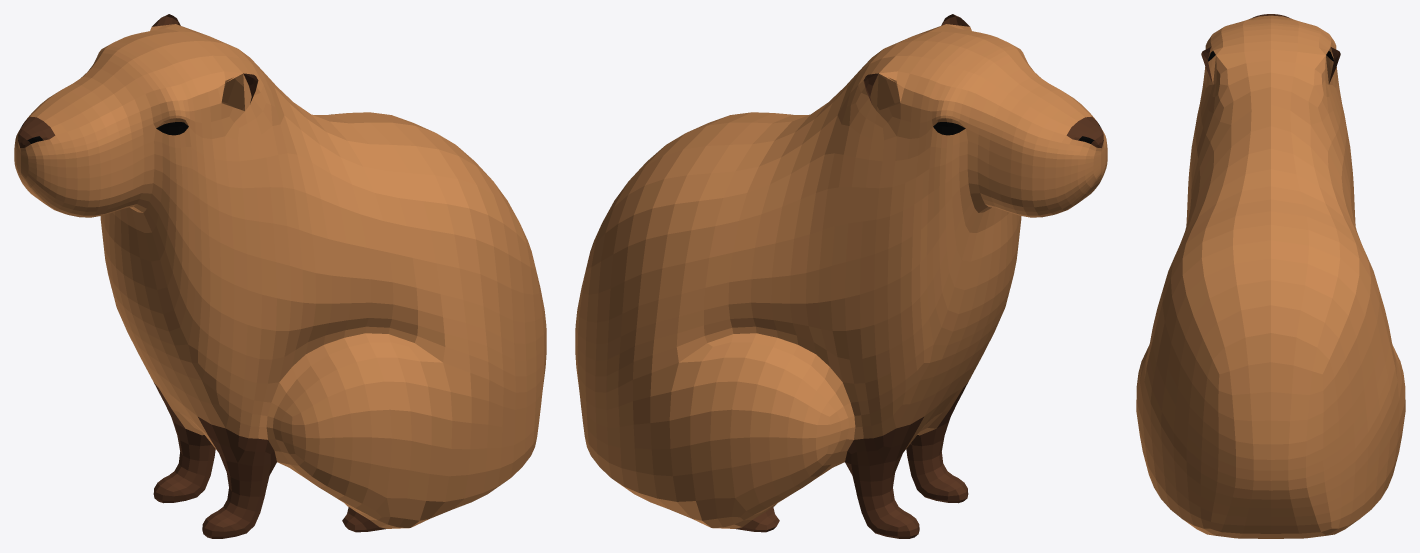
The model's file is Kapibara_fbx.fbx.
The picture shows the model from 3 angles, left to right: view 1: azimuth 30°, elevation 25°; view 2: azimuth 150°, elevation 25°; view 3: azimuth 270°, elevation 25°; orthographic projection. The views are drawn at different scales.
Parts seen in each view (by area): view 1: Kapibara; view 2: Kapibara; view 3: Kapibara.
Boxes of the visible parts, bbox=[...] form: Kapibara: bbox=[14, 14, 546, 538]; Kapibara: bbox=[575, 14, 1107, 538]; Kapibara: bbox=[1136, 14, 1405, 538].
Size of the model in its own units: 66.16 by 59.85 by 37.06.
